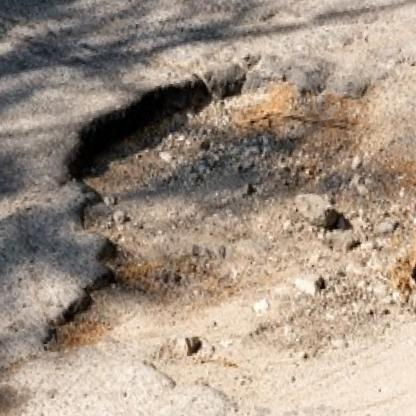pothole: (45, 31, 416, 380)
